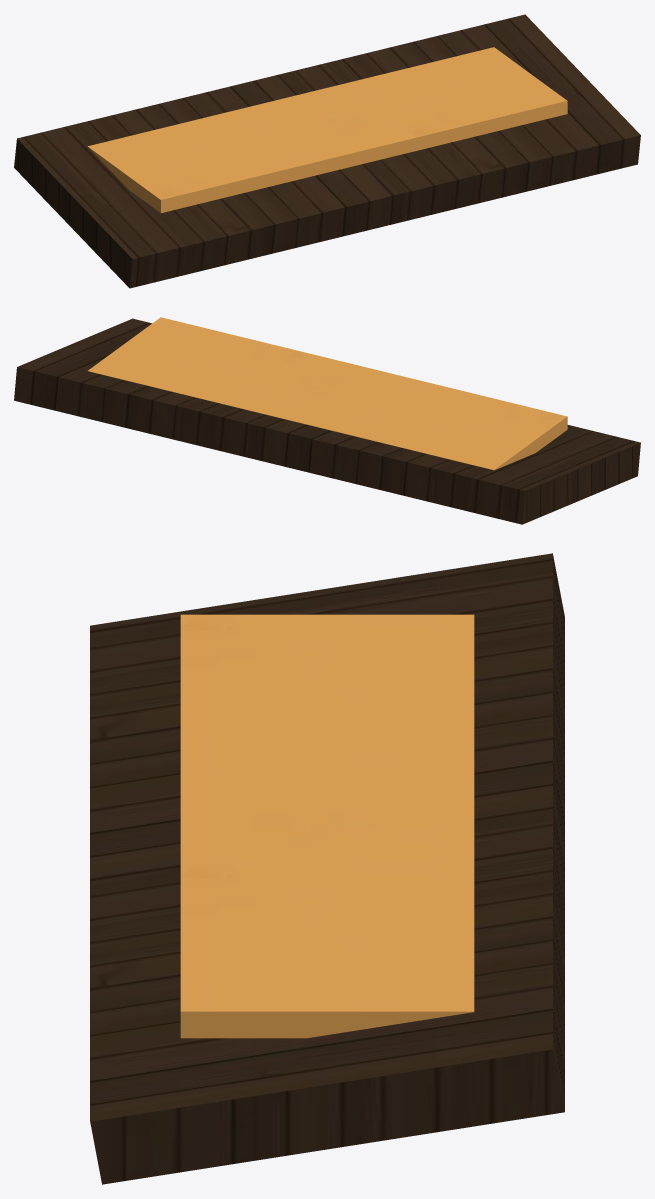
Rendered from sunken_plaque_01.glb.
The picture shows the model from 3 angles, top to bottom: view 1: azimuth 30°, elevation 25°; view 2: azimuth 150°, elevation 25°; view 3: azimuth 270°, elevation 25°; orthographic projection. The views are drawn at different scales.
Parts seen in each view (by area): view 1: sunken_plaque_01; view 2: sunken_plaque_01; view 3: sunken_plaque_01.
Part boxes in pixels (<box>): sunken_plaque_01: <box>14,14,640,288</box>; sunken_plaque_01: <box>14,317,640,524</box>; sunken_plaque_01: <box>90,553,564,1184</box>.
Size of the model in its own units: 2 by 0.2542 by 0.8087.
Materials: 2 (2 with a texture image).
